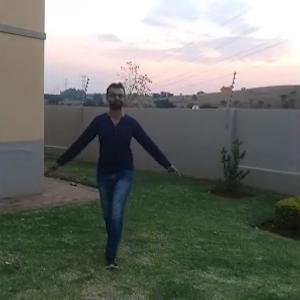land: (63, 86, 166, 265)
